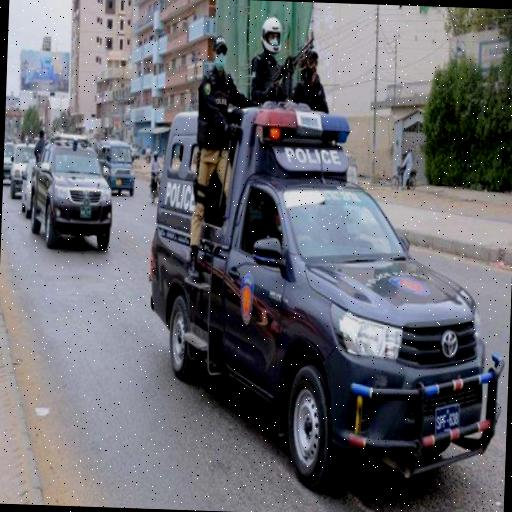Ambulance: (143, 99, 509, 504)
